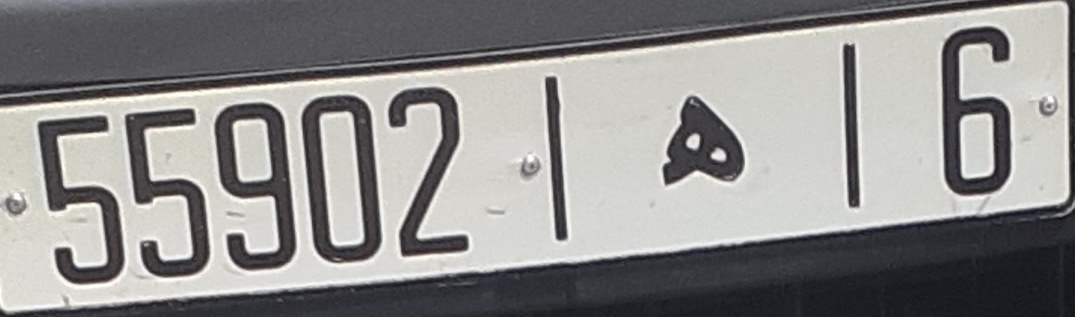0: (299, 93, 385, 266)
2: (383, 87, 475, 254)
5: (30, 112, 124, 288), (124, 107, 213, 281)
6: (936, 25, 1017, 198)
9: (213, 100, 299, 274)
h: (648, 87, 758, 192)
